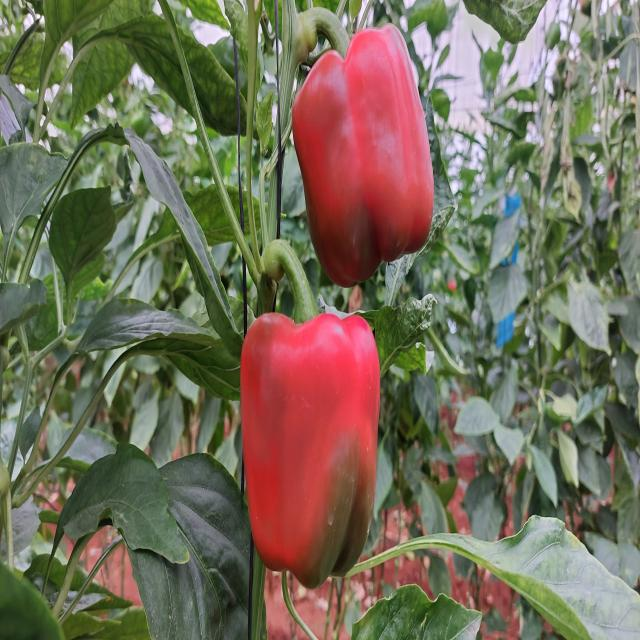Red-Ready-to-Harvest: (236, 300, 384, 590), (291, 59, 454, 275)
